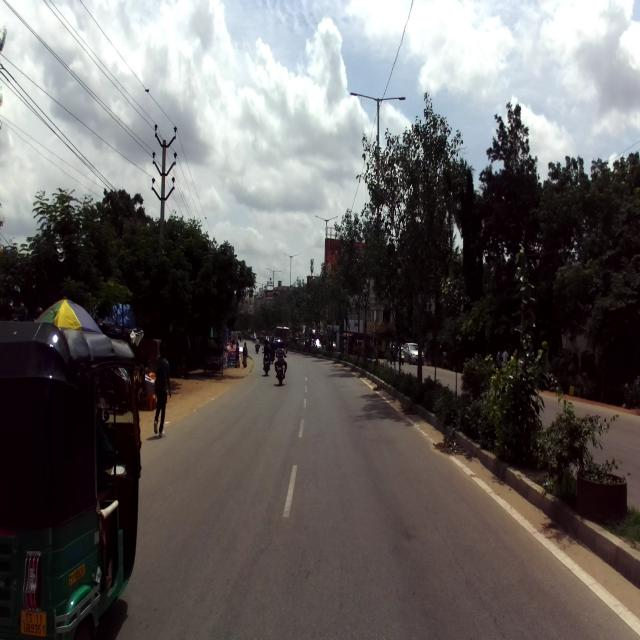autorickshaw: (0, 322, 143, 639)
